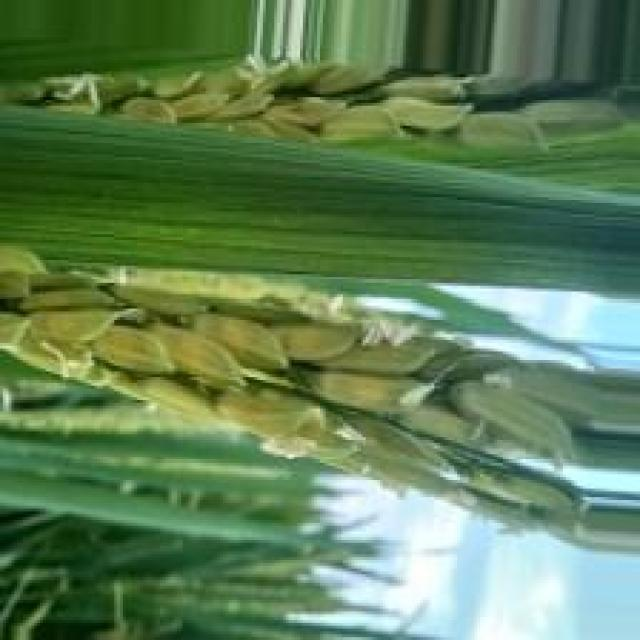HealthyLeaf: (0, 103, 640, 300)
